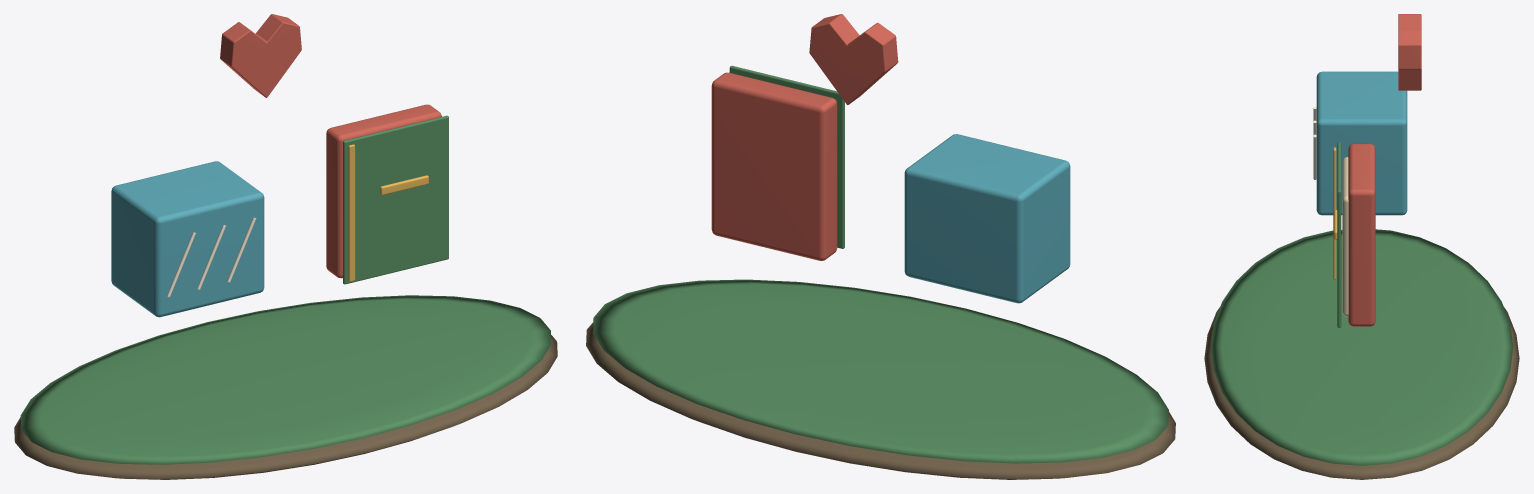
Rendered from complete-third-cold-quiet.glb.
3 views of the same model, side by side, from view 1: azimuth 30°, elevation 25°; view 2: azimuth 150°, elevation 25°; view 3: azimuth 270°, elevation 25° (orthographic). The views are drawn at different scales.
Parts seen in each view (by area): view 1: complete-third-cold-quiet_surface_01, complete-third-cold-quiet_surface_02, complete-third-cold-quiet_surface_00, complete-third-cold-quiet_surface_04, complete-third-cold-quiet_surface_06, complete-third-cold-quiet_surface_03; view 2: complete-third-cold-quiet_surface_01, complete-third-cold-quiet_surface_04, complete-third-cold-quiet_surface_02, complete-third-cold-quiet_surface_00; view 3: complete-third-cold-quiet_surface_01, complete-third-cold-quiet_surface_02, complete-third-cold-quiet_surface_04, complete-third-cold-quiet_surface_00, complete-third-cold-quiet_surface_05, complete-third-cold-quiet_surface_06.
Boxes of the visible parts, left/top/right/bottom form: complete-third-cold-quiet_surface_01: left=20, top=115, right=551, bottom=464; complete-third-cold-quiet_surface_02: left=111, top=161, right=264, bottom=317; complete-third-cold-quiet_surface_00: left=14, top=335, right=557, bottom=479; complete-third-cold-quiet_surface_04: left=220, top=14, right=441, bottom=278; complete-third-cold-quiet_surface_06: left=348, top=144, right=428, bottom=281; complete-third-cold-quiet_surface_03: left=167, top=217, right=256, bottom=297; complete-third-cold-quiet_surface_01: left=593, top=65, right=1168, bottom=463; complete-third-cold-quiet_surface_04: left=711, top=14, right=898, bottom=260; complete-third-cold-quiet_surface_02: left=904, top=134, right=1070, bottom=303; complete-third-cold-quiet_surface_00: left=586, top=322, right=1175, bottom=479; complete-third-cold-quiet_surface_01: left=1210, top=142, right=1513, bottom=465; complete-third-cold-quiet_surface_02: left=1316, top=71, right=1407, bottom=215; complete-third-cold-quiet_surface_04: left=1348, top=14, right=1421, bottom=326; complete-third-cold-quiet_surface_00: left=1204, top=307, right=1519, bottom=479; complete-third-cold-quiet_surface_05: left=1342, top=157, right=1348, bottom=316; complete-third-cold-quiet_surface_06: left=1333, top=147, right=1337, bottom=279.
Size of the model in its own units: 4.56 by 3.07 by 2.5.
